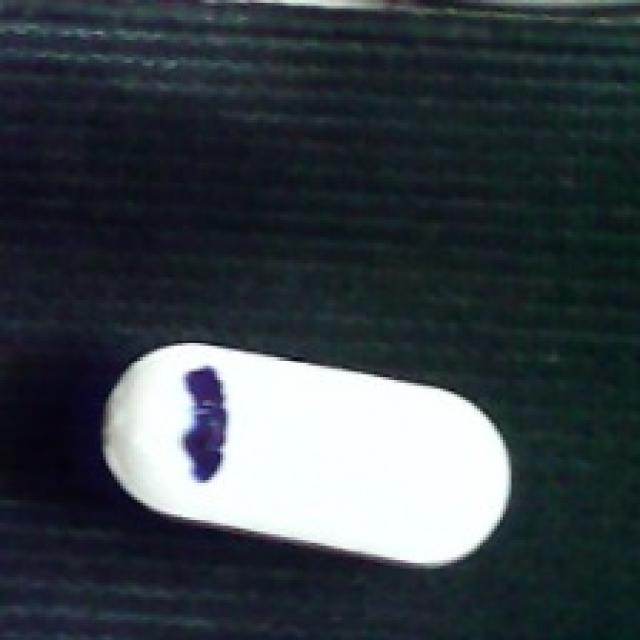defected: (94, 340, 514, 566)
